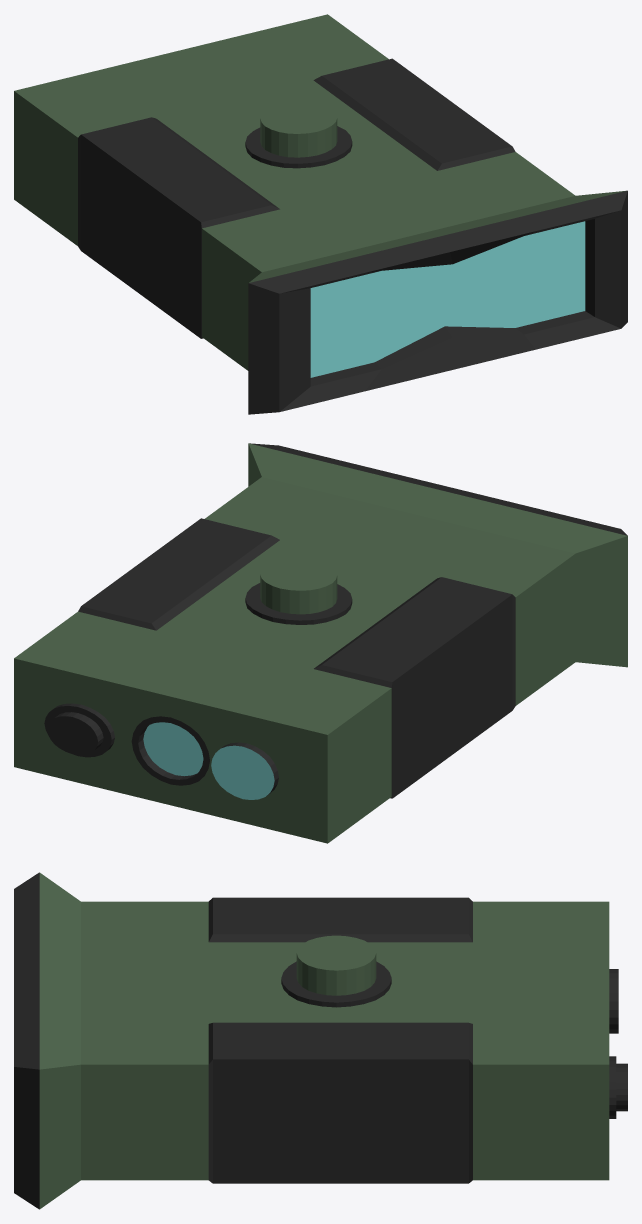
The model's file is Thermal Visor_Textured_Baked.fbx.
The picture shows the model from 3 angles, top to bottom: view 1: azimuth 30°, elevation 25°; view 2: azimuth 150°, elevation 25°; view 3: azimuth 270°, elevation 25°; orthographic projection. The views are drawn at different scales.
Visible parts, largest first — view 1: Thermal Visor; view 2: Thermal Visor; view 3: Thermal Visor.
Boxes of the visible parts, x1=… form: Thermal Visor: x1=14, y1=14, x2=627, y2=414; Thermal Visor: x1=14, y1=443, x2=627, y2=843; Thermal Visor: x1=14, y1=872, x2=627, y2=1209.
Size of the model in its own units: 29.87 by 11.15 by 39.28.
